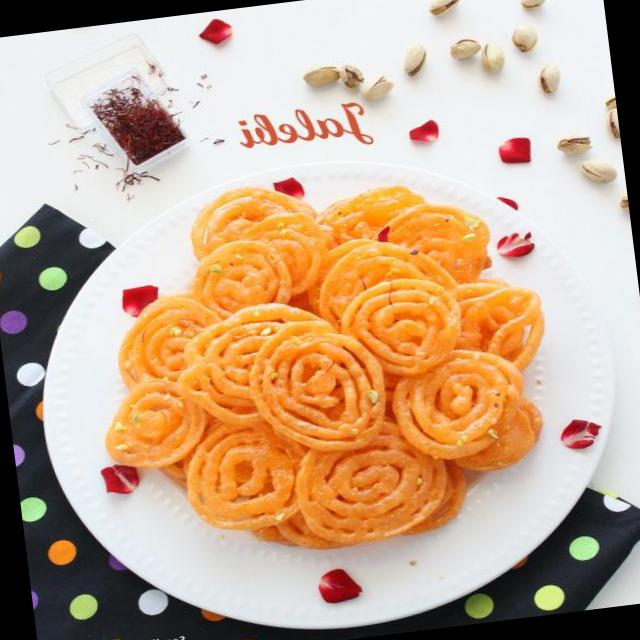jalebi: (90, 159, 546, 558)
